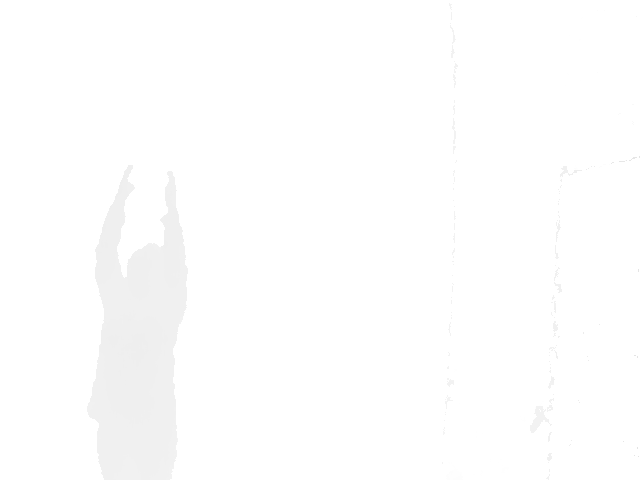hand: (114, 163, 137, 204), (162, 169, 179, 211)
head: (126, 242, 163, 282)
person: (85, 163, 190, 480)
